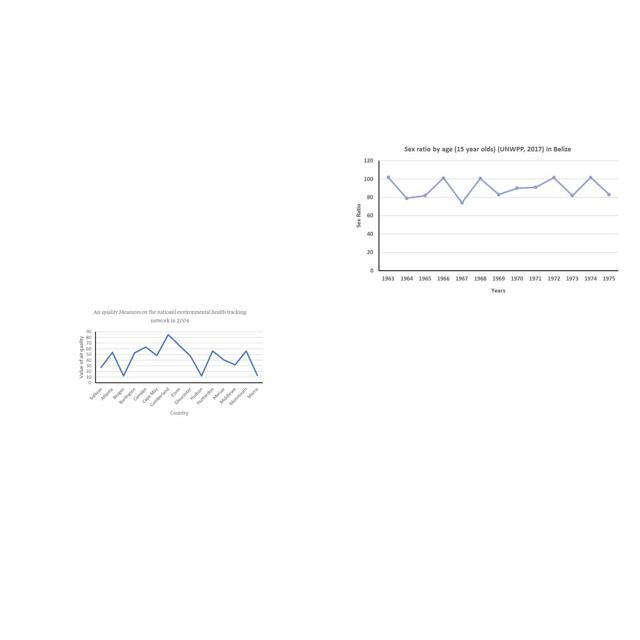Graph: (351, 137, 626, 297), (73, 305, 266, 418)
